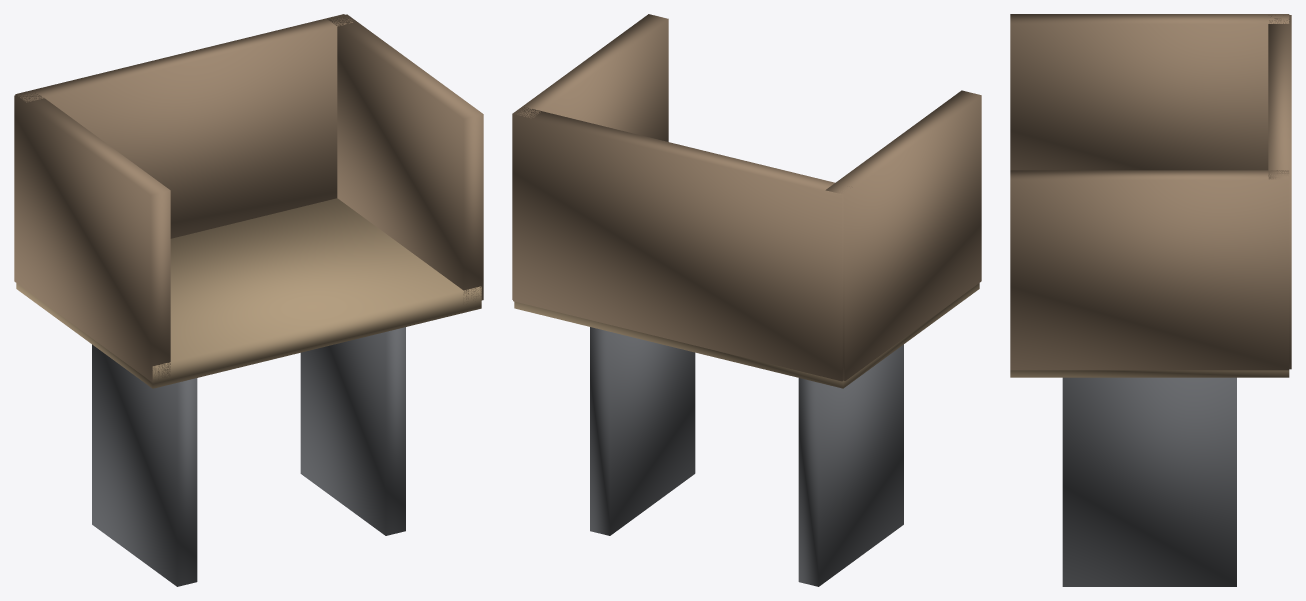
File: study_carrel__squat.glb
3 views of the same model, side by side, from view 1: azimuth 30°, elevation 25°; view 2: azimuth 150°, elevation 25°; view 3: azimuth 270°, elevation 25° (orthographic). The views are drawn at different scales.
Visible parts, largest first — view 1: world; view 2: world; view 3: world.
Part boxes in pixels (box(x1,y1,x2,y2)): world: box(14, 14, 483, 586); world: box(512, 14, 981, 586); world: box(1010, 14, 1291, 586).
Bounding box in the file's own units: 0.913 × 1.11 × 0.6534.
